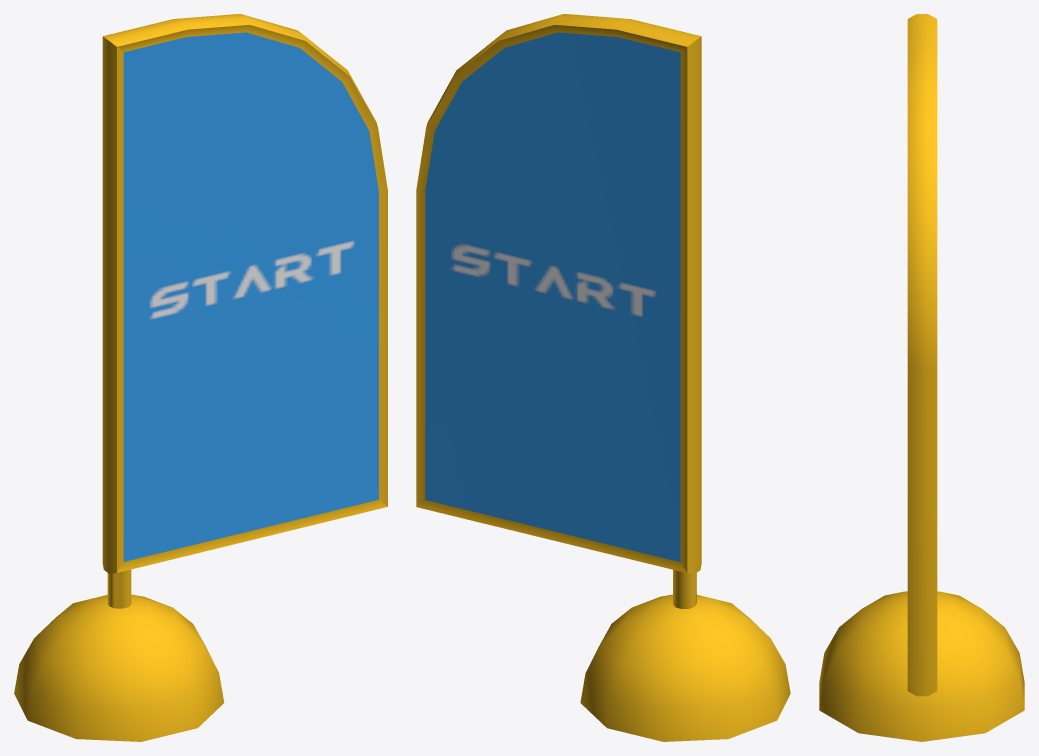
Rendered from DCR0110004.fbx.
The picture shows the model from 3 angles, left to right: view 1: azimuth 30°, elevation 25°; view 2: azimuth 150°, elevation 25°; view 3: azimuth 270°, elevation 25°; orthographic projection. The views are drawn at different scales.
Visible parts, largest first — view 1: smDCR0110004; view 2: smDCR0110004; view 3: smDCR0110004.
Boxes of the visible parts, <box> form: smDCR0110004: <box>14,14,387,741</box>; smDCR0110004: <box>416,14,790,741</box>; smDCR0110004: <box>819,14,1024,741</box>.
Size of the model in its own units: 199 by 354 by 97.43.
1 material, 1 textured.
